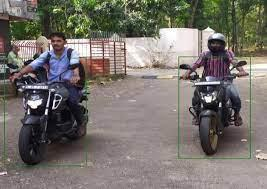motorcycle: (4, 56, 94, 168), (176, 58, 250, 158)
